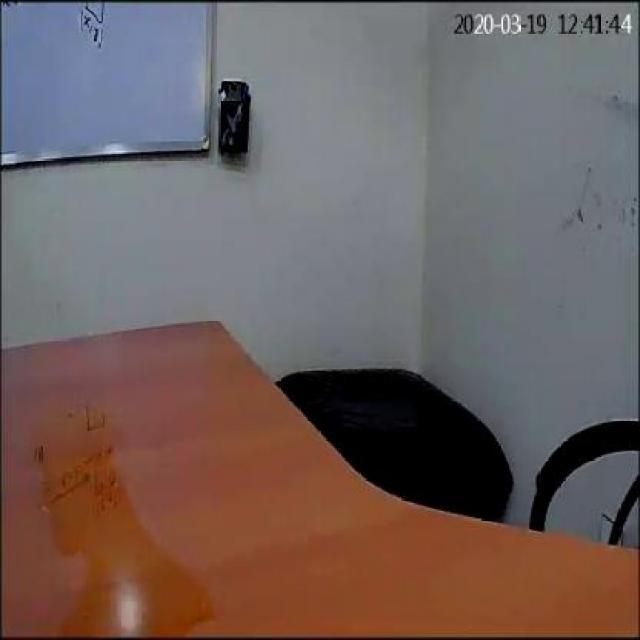spill: (31, 404, 214, 632)
